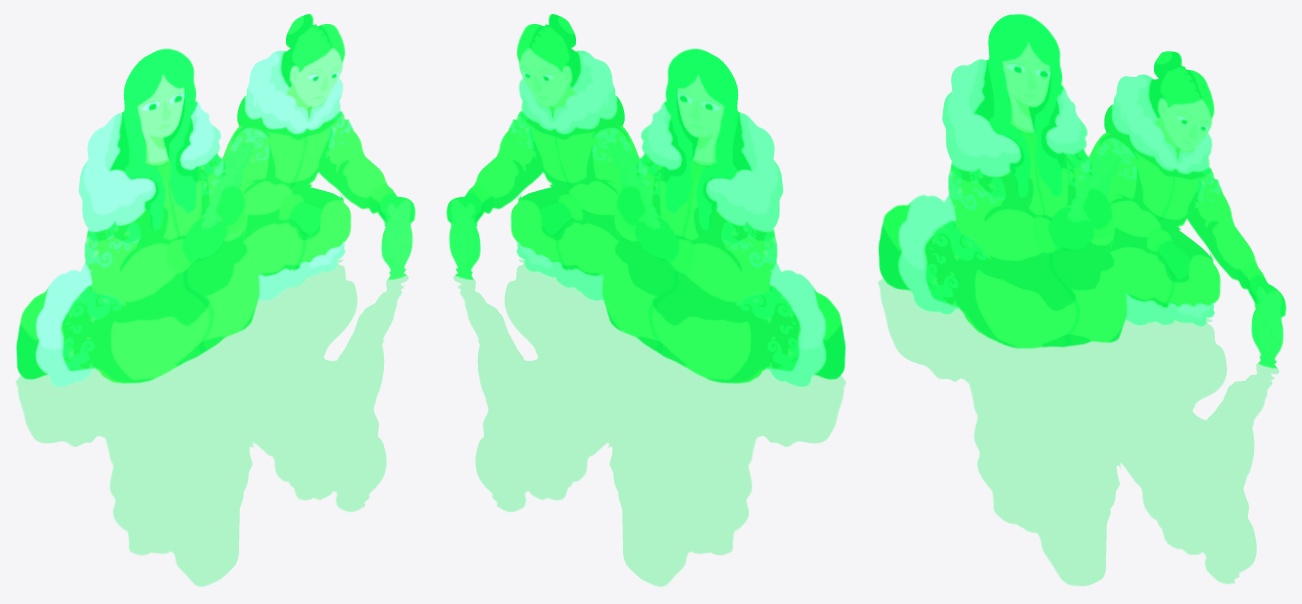
The model's file is INT_Women2.glb.
3 views of the same model, side by side, from view 1: azimuth 30°, elevation 25°; view 2: azimuth 150°, elevation 25°; view 3: azimuth 330°, elevation 25° (orthographic). The views are drawn at different scales.
Parts seen in each view (by area): view 1: INT_Women; view 2: INT_Women; view 3: INT_Women.
Boxes of the visible parts, left/top/right/bottom form: INT_Women: left=16, top=14, right=415, bottom=586; INT_Women: left=446, top=14, right=845, bottom=586; INT_Women: left=878, top=14, right=1286, bottom=585.
Bounding box in the file's own units: 0.7402 × 0.9651 × 3.25e-07.
Materials: 1 (1 with a texture image).
